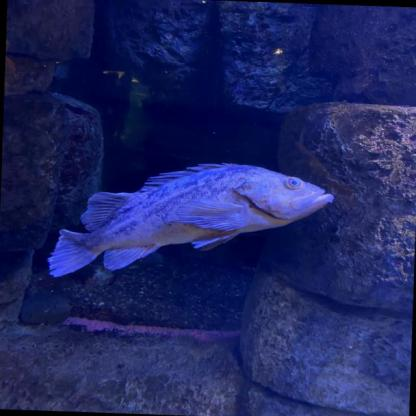fish: (40, 147, 336, 283)
